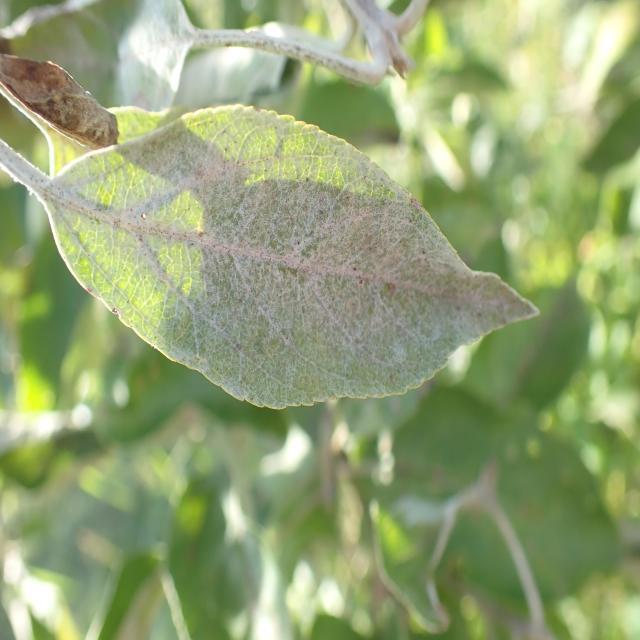Powdery_mildew: (46, 109, 538, 408)
